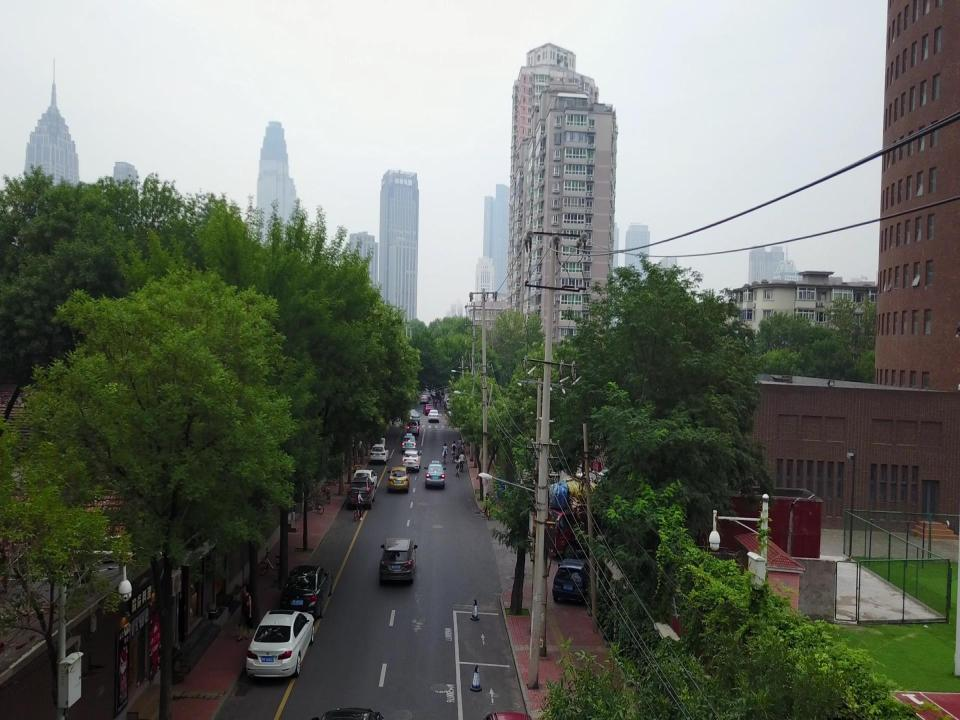car: (248, 611, 313, 678), (280, 564, 330, 624), (380, 539, 416, 584), (348, 478, 373, 507), (387, 467, 411, 495), (425, 461, 446, 491), (351, 469, 377, 491), (402, 449, 420, 473), (370, 444, 388, 464), (403, 433, 416, 452), (407, 422, 419, 436), (407, 408, 419, 422), (428, 410, 440, 423), (423, 404, 435, 415), (445, 399, 455, 410), (419, 395, 429, 404)
truck: (536, 474, 570, 553)
van: (552, 558, 590, 606)
